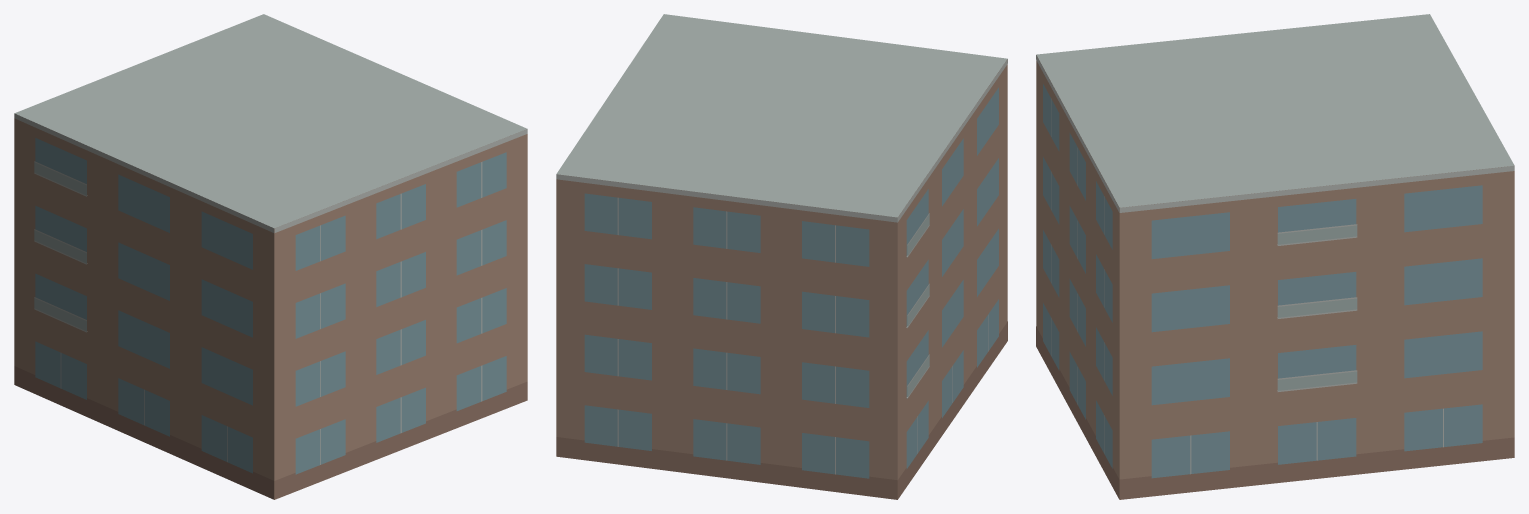
File: survey-upis-32826792.glb
The picture shows the model from 3 angles, left to right: view 1: azimuth 30°, elevation 25°; view 2: azimuth 150°, elevation 25°; view 3: azimuth 270°, elevation 25°; orthographic projection. The views are drawn at different scales.
Visible parts, largest first — view 1: survey-upis-32826792.tmp; view 2: survey-upis-32826792.tmp; view 3: survey-upis-32826792.tmp.
Part boxes in pixels (left/top/right/bottom): survey-upis-32826792.tmp: left=14, top=14, right=527, bottom=499; survey-upis-32826792.tmp: left=556, top=14, right=1007, bottom=499; survey-upis-32826792.tmp: left=1036, top=14, right=1514, bottom=499.
Size of the model in its own units: 19.22 by 13.5 by 20.05.
